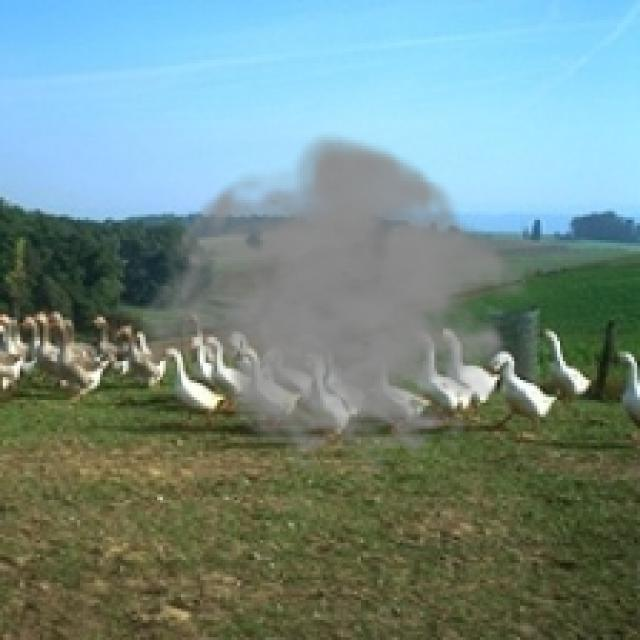Smoke: (131, 132, 546, 474)
